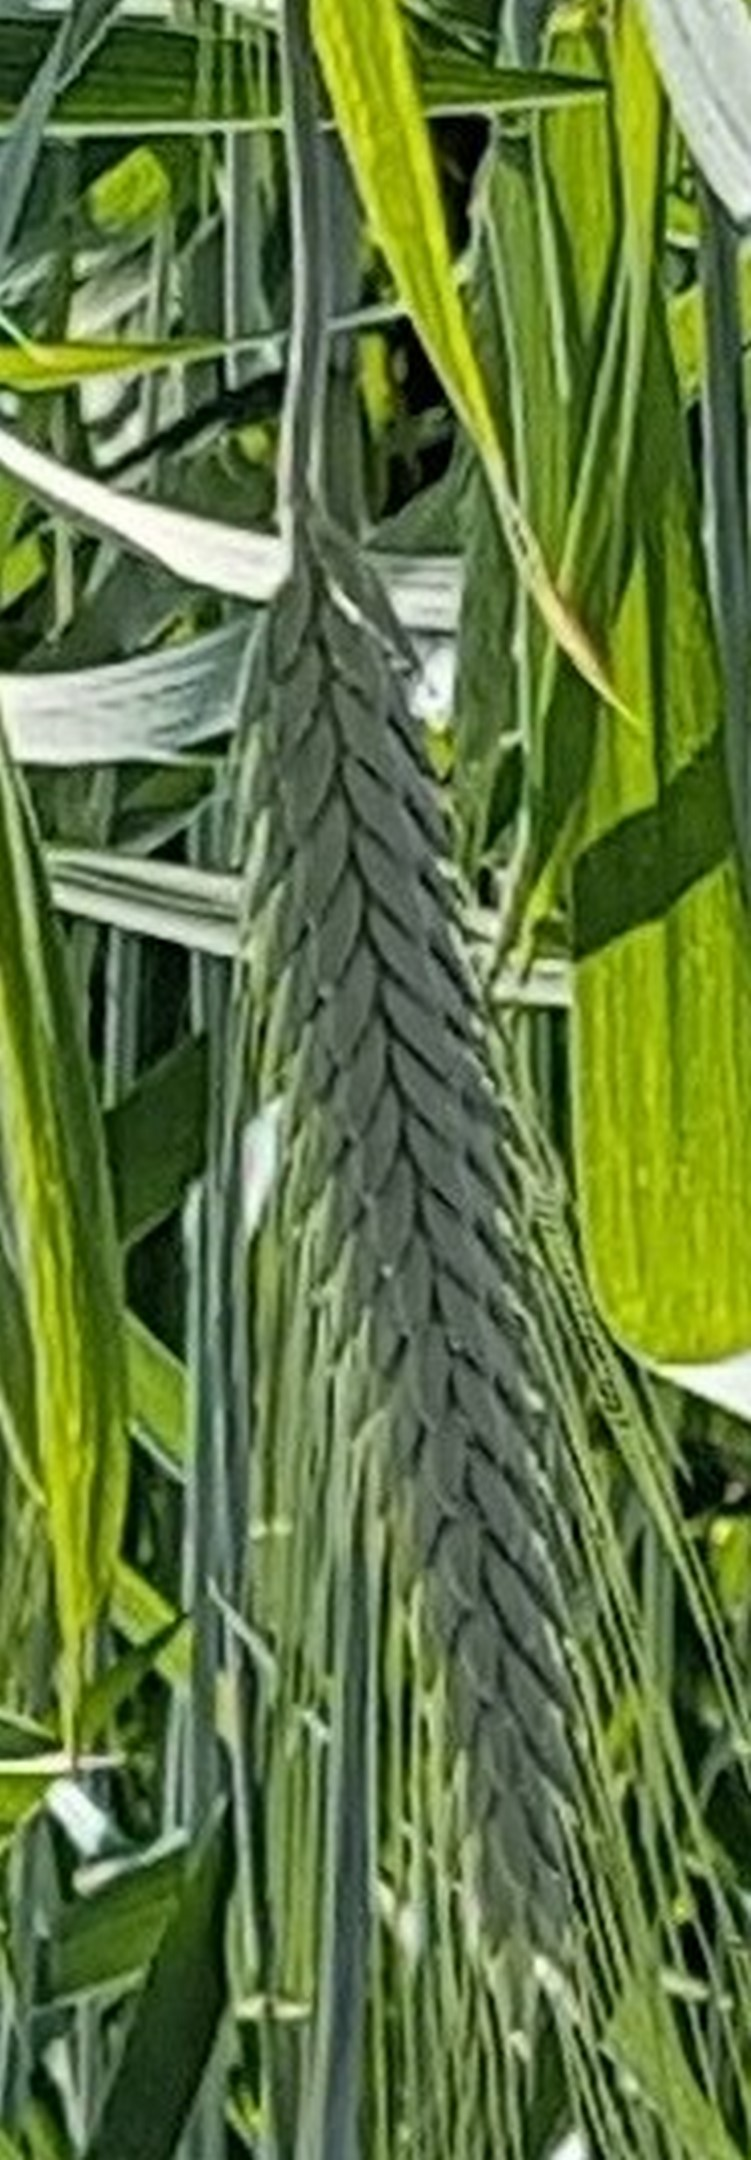Healthy Wheat: (220, 529, 739, 1935)
